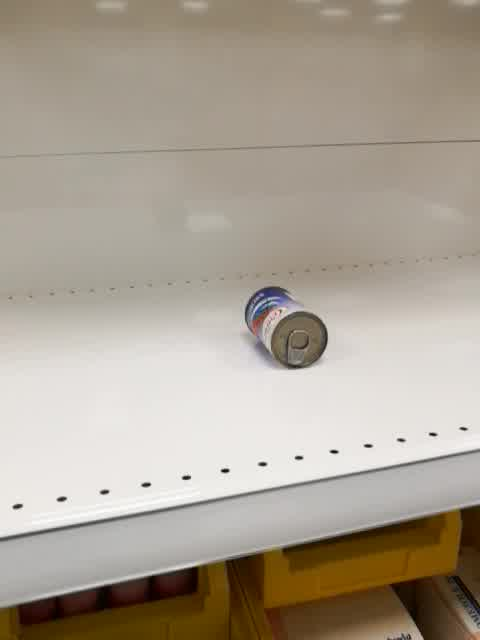sardine: (243, 285, 329, 371)
